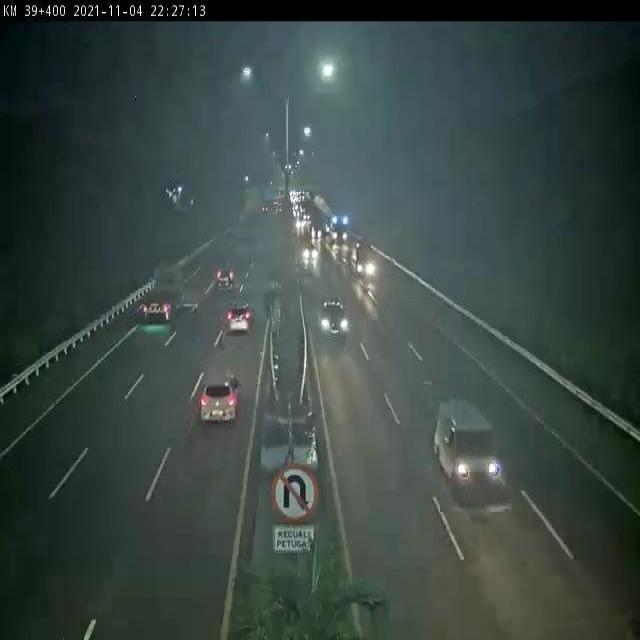car: (432, 395, 502, 485), (200, 372, 242, 425), (317, 295, 350, 341), (225, 299, 257, 333), (215, 265, 237, 288)
truck-m-: (140, 262, 185, 322)
